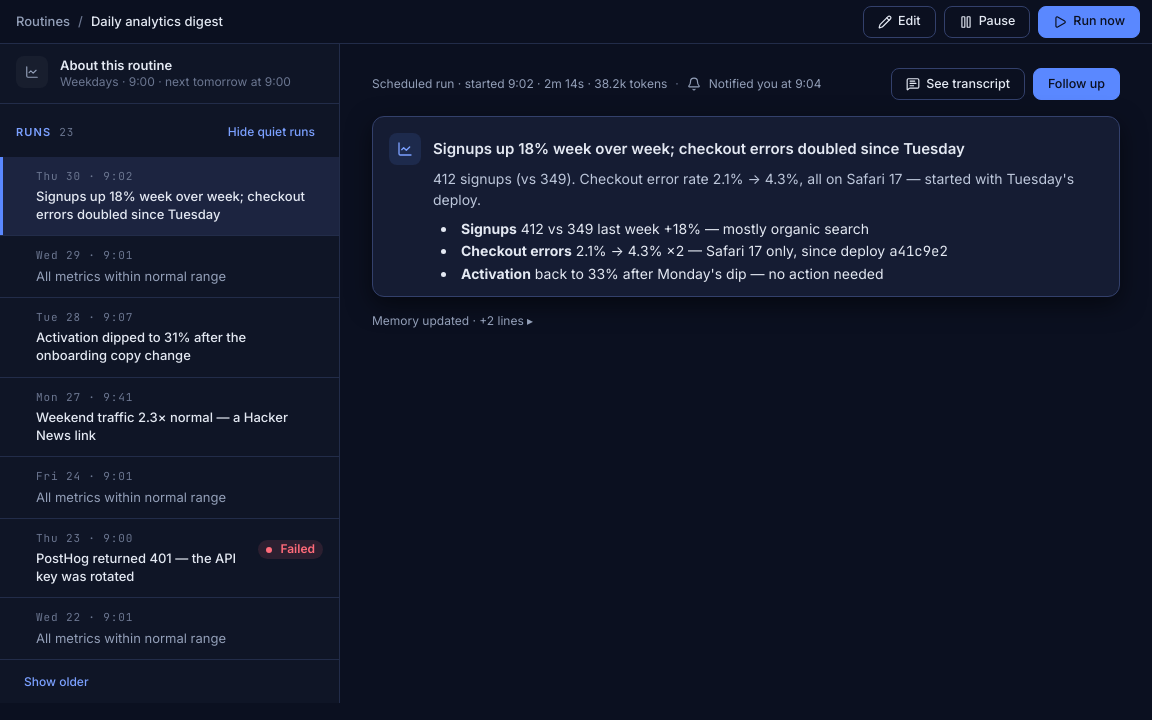
Test: the routine page — the run inbox › 'Hide quiet runs' asks the box for the runs that matter and flips to 'Show all'
Click the button "Hide quiet runs". click: (271, 132)
box: [220,120,323,145]
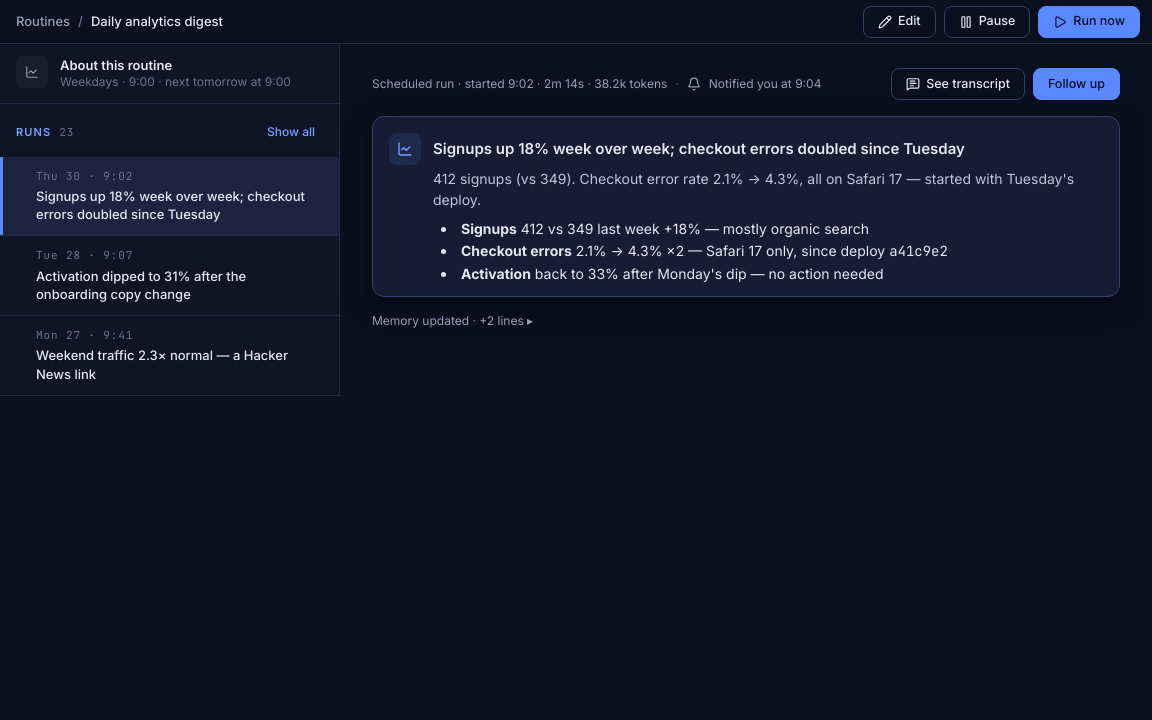
Expected: the button "Show all" is shown, [259,120,323,145]
